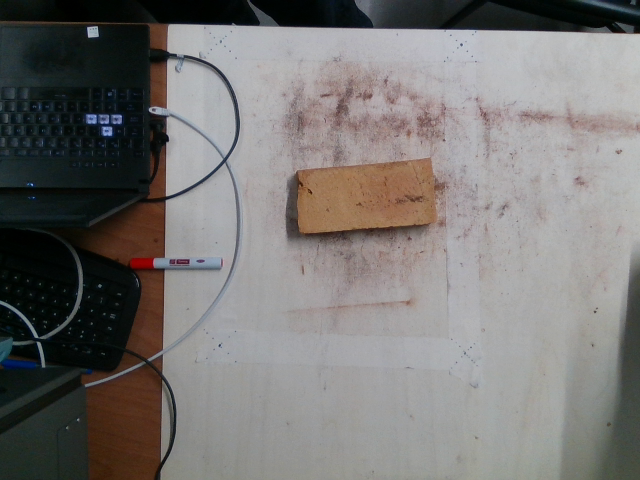brick: (295, 158, 433, 232)
